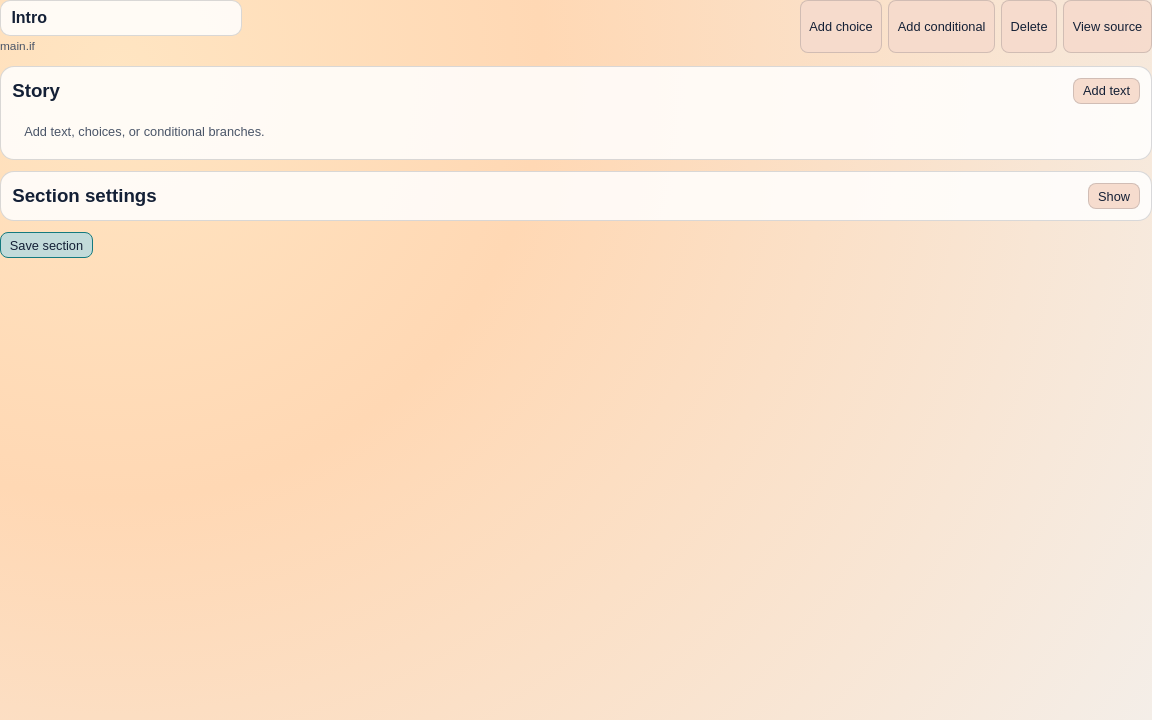
Test: GraphSectionWriterPane › block management › "Add conditional" button appends conditional with branches
This screenshot has width=1152, height=720.
Click the button "Add conditional".
click(942, 26)  # box [888,0,995,53]
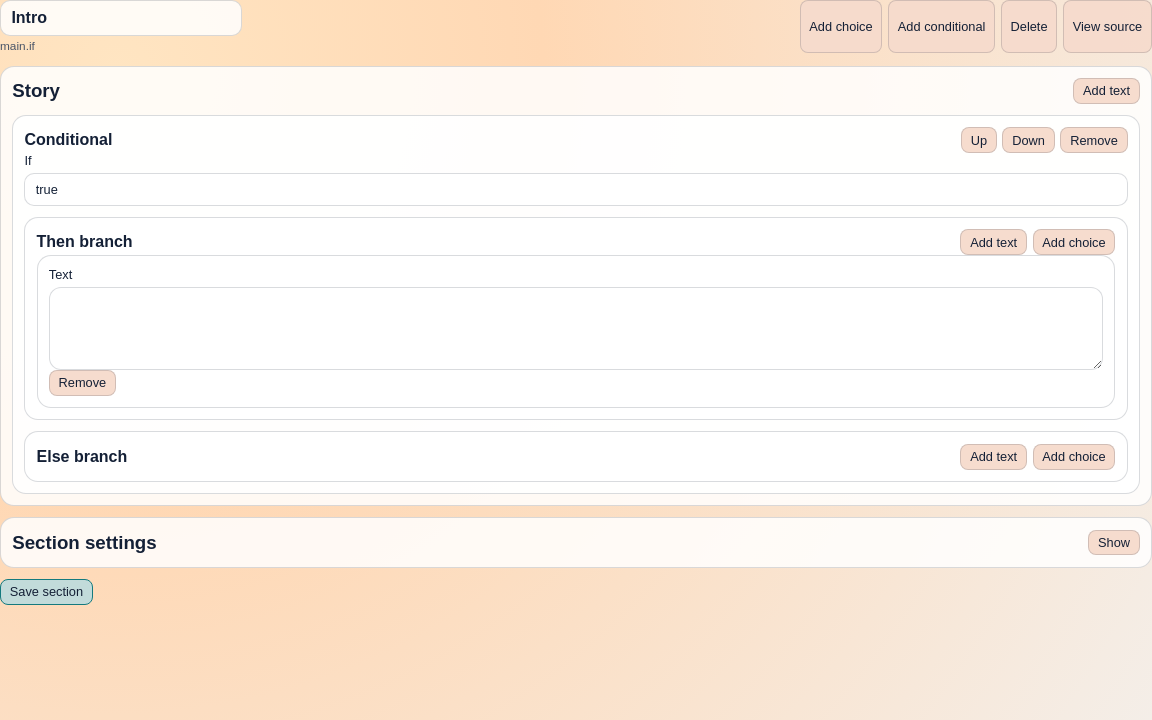
Now the text "Then branch" is shown, box [37,233,133,251]
Now the text "Else branch" is shown, box [37,448,127,466]
